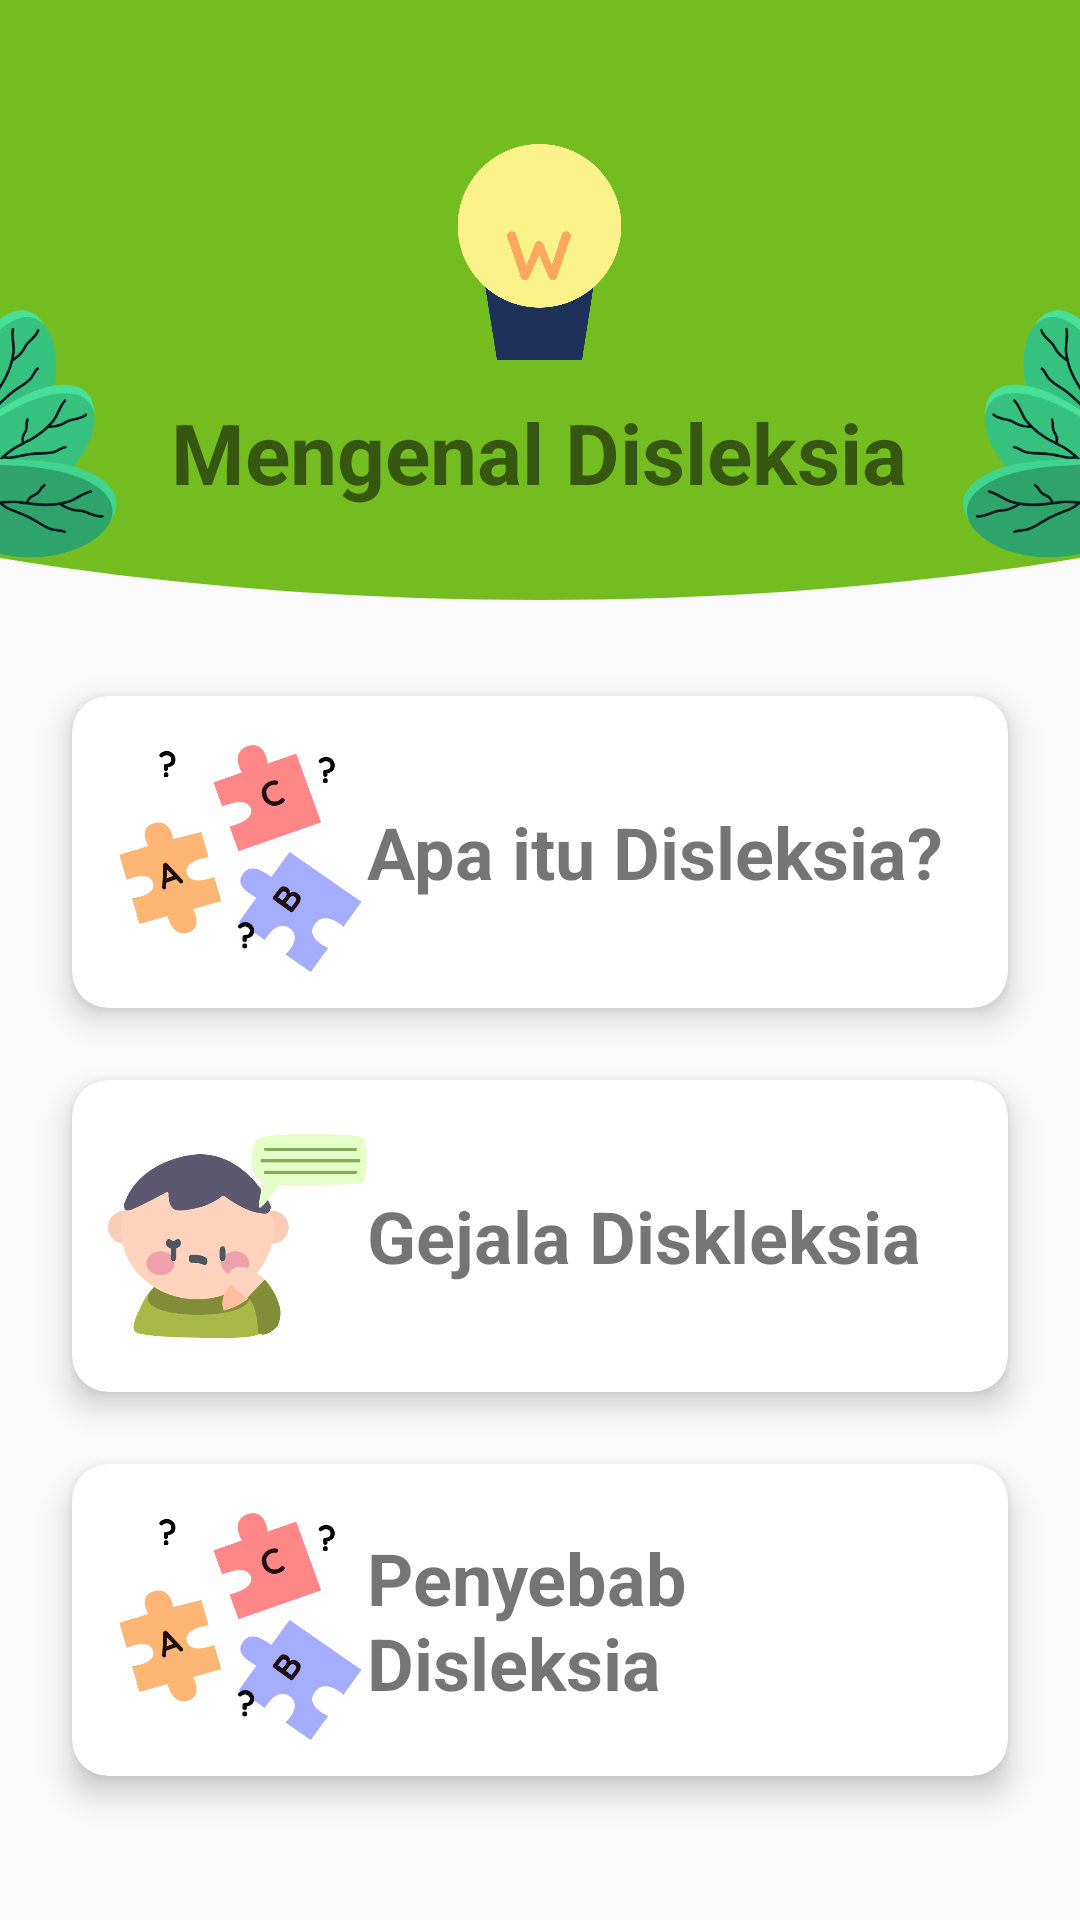

Icons on this 1080w x 1920h Android screen, each with the point to tap as [x,y]:
knowledge bulb: [539,252]
